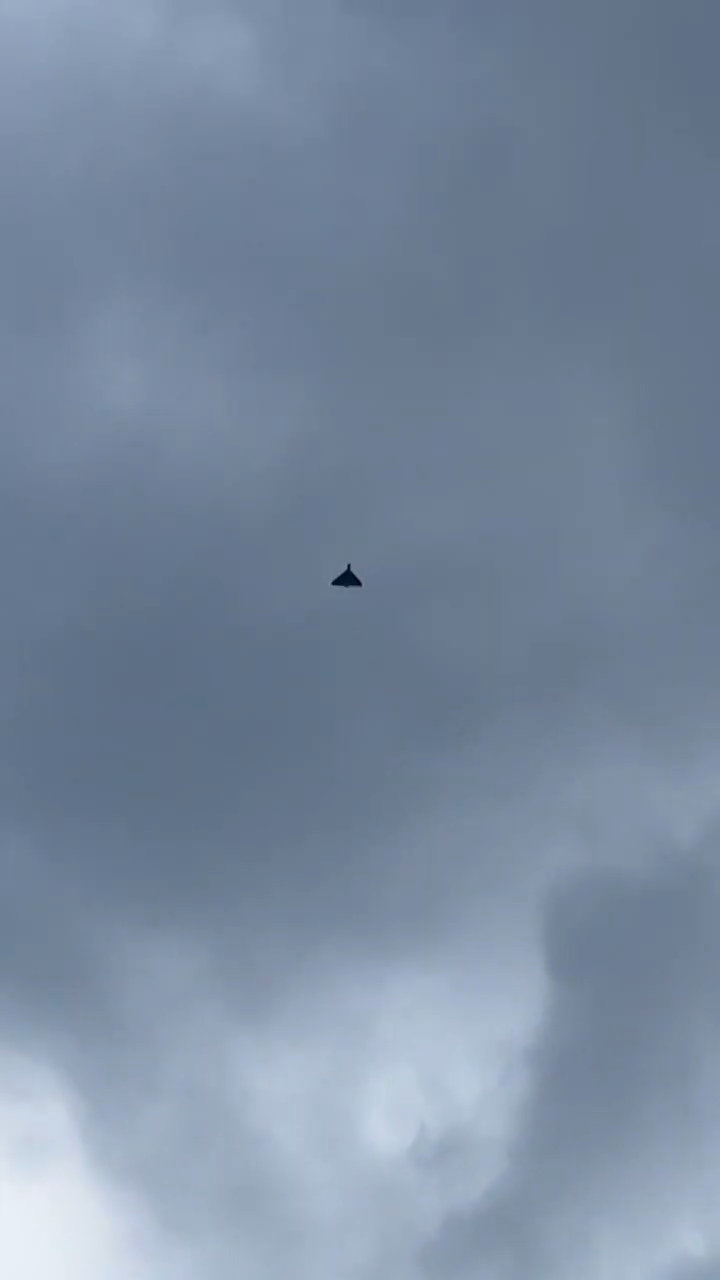shahed: (330, 561, 364, 590)
